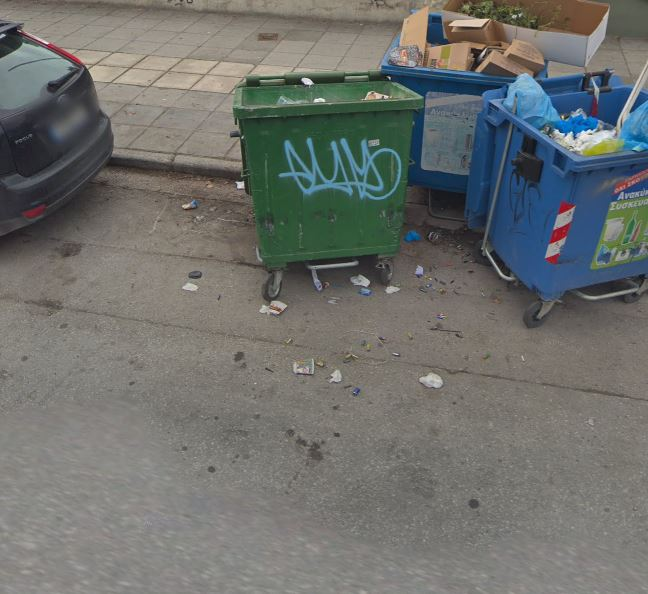trash: (295, 354, 366, 403), (312, 268, 407, 298), (176, 264, 210, 300), (415, 365, 449, 394), (256, 299, 293, 319), (404, 228, 426, 244), (177, 198, 199, 212), (413, 265, 424, 276)
